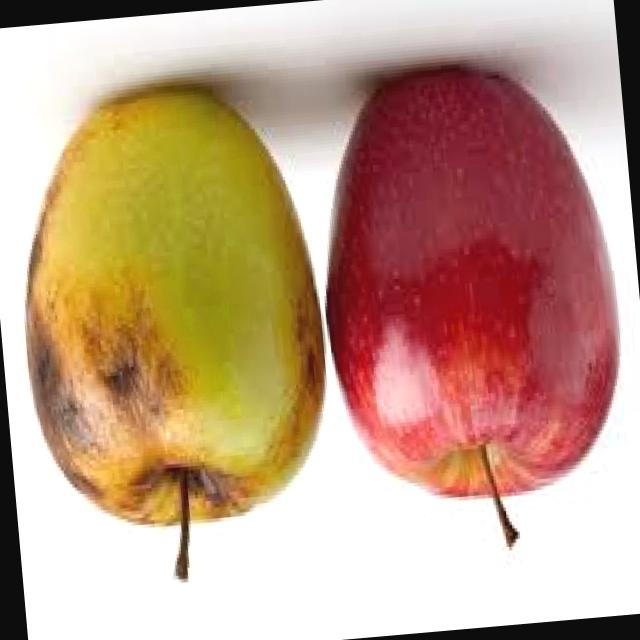Red Apple: (306, 54, 636, 512)
Rotten Apple: (6, 76, 337, 537)
